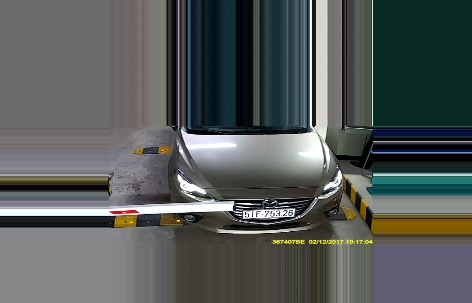plate: (241, 206, 295, 218)
